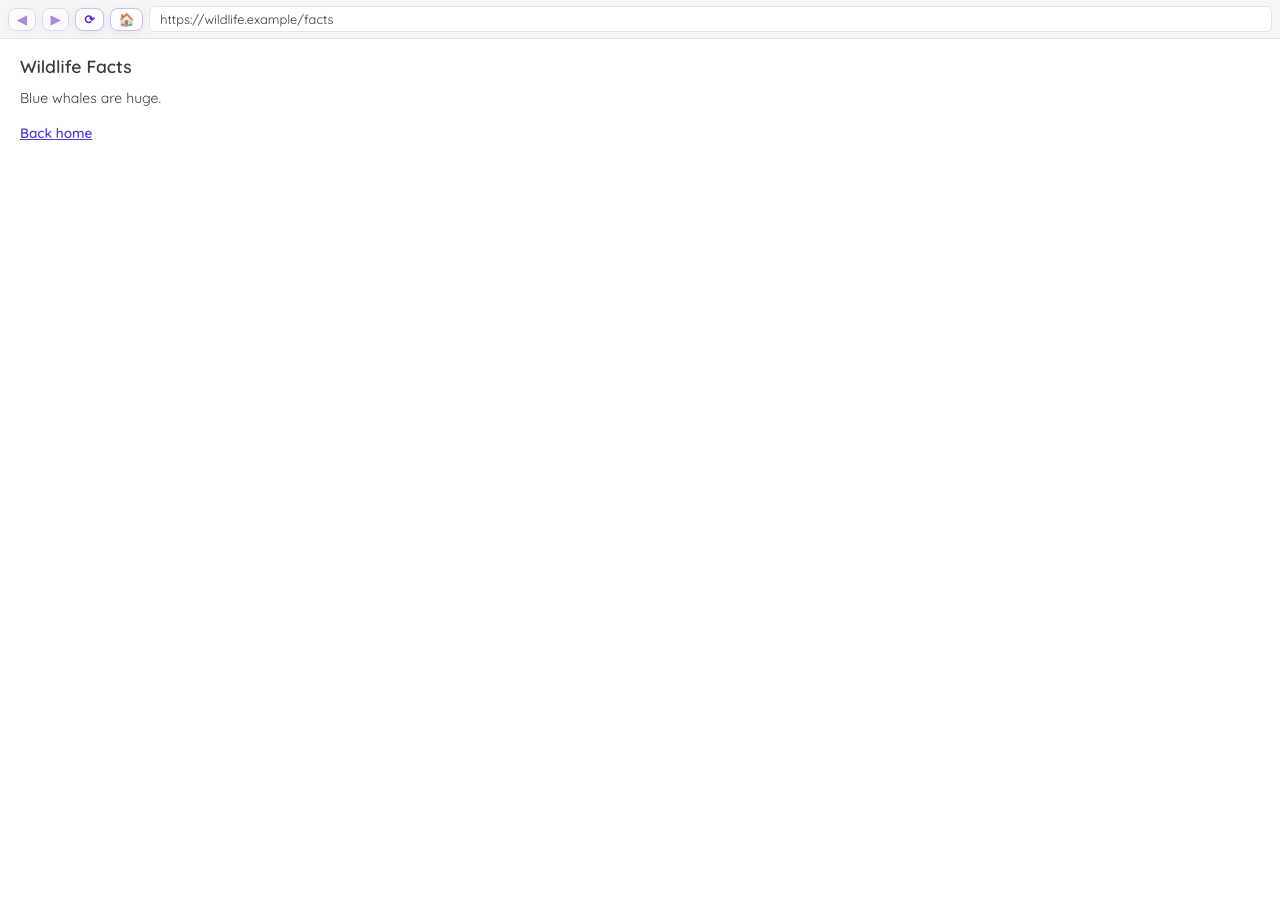
Test: BrowserApp › Back is disabled at the start of history and enabled after navigating
Expected: the button named "Back" is disabled, top-left (8, 8), bottom-right (36, 30)
Click the button "Back home" at (56, 132), box top-left (20, 124), bottom-right (92, 140)
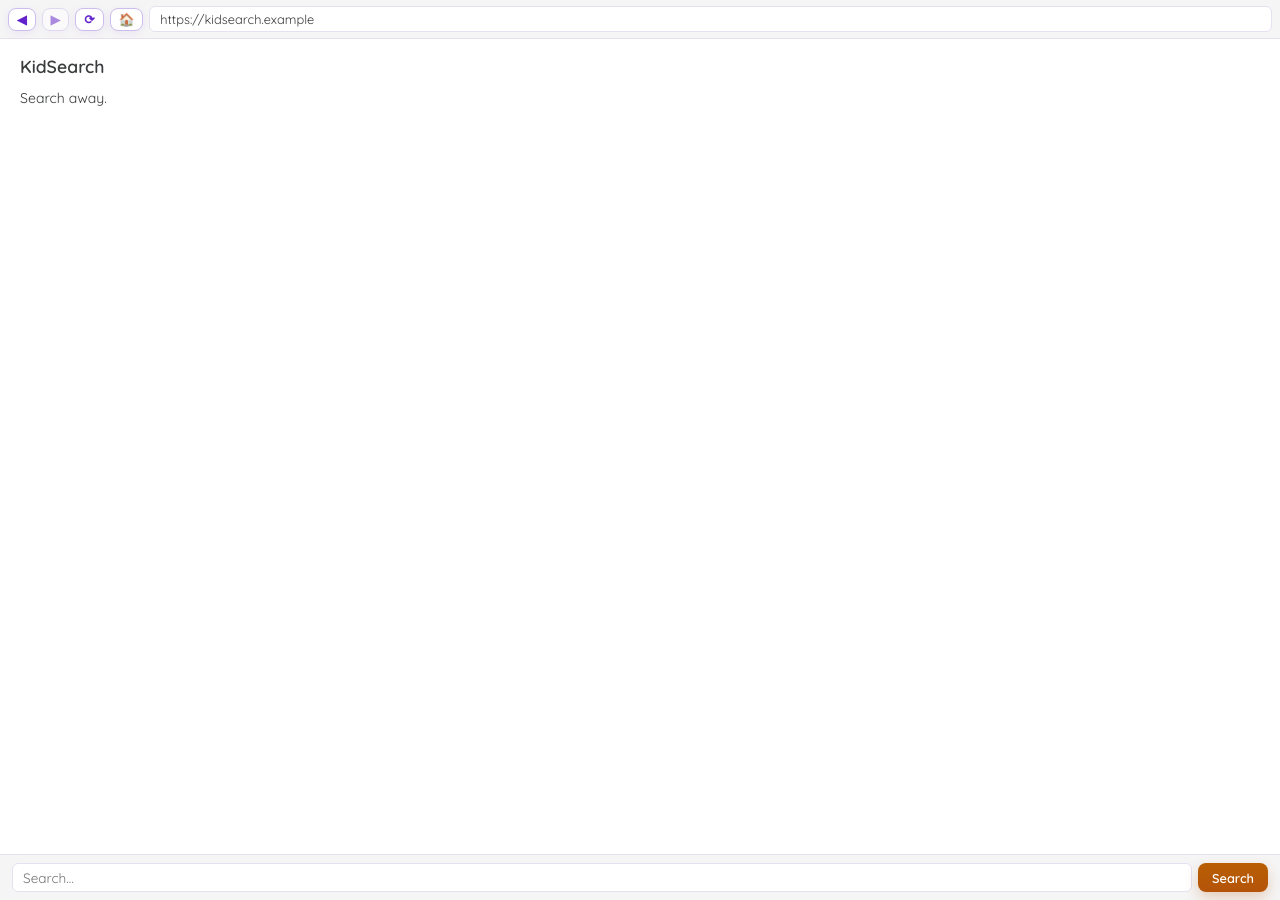
Now the button named "Back" is enabled, box top-left (8, 8), bottom-right (36, 30)
